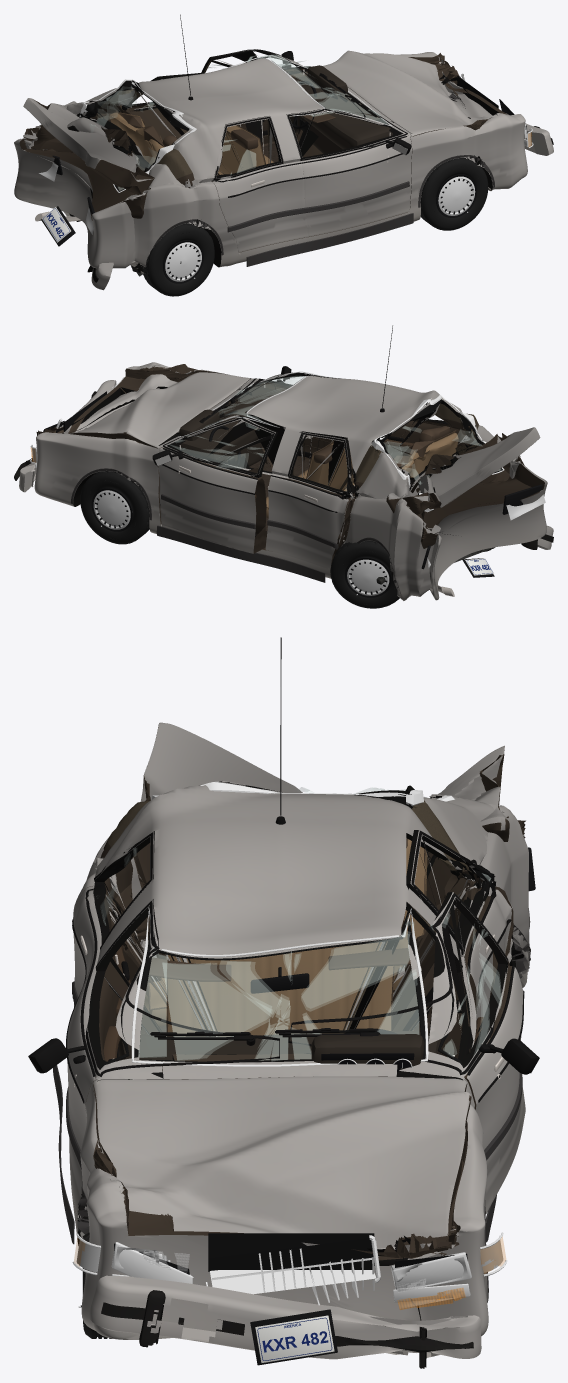
File: sedan87_rear_d2.glb
3 renders of one model, top to bottom at view 1: azimuth 30°, elevation 25°; view 2: azimuth 150°, elevation 25°; view 3: azimuth 270°, elevation 25°, orthographic. The views are drawn at different scales.
Parts seen in each view (by area): view 1: Body, Door_FR, Hood, Interior, Door_RR, Trunk, Glass, Wheel_RR_mesh, Wheel_FR_mesh, Trim, Trim_FR, Ends (+5 smaller); view 2: Body, Door_FL, Hood, Door_RL, Interior, Trunk, Wheel_FL_mesh, Glass, Wheel_RL_mesh, Trim, Ends, Trim_FL (+7 smaller); view 3: Body, Hood, Interior, Glass, Ends, Bumper_F, Door_FL, Trunk, Door_FR, Door_RL, Trim_FR, Trim_FL (+5 smaller).
Part boxes in pixels (left/top/right/bottom): Body: left=14, top=52, right=527, bottom=273; Door_FR: left=286, top=109, right=411, bottom=236; Hood: left=323, top=50, right=492, bottom=136; Interior: left=109, top=65, right=392, bottom=175; Door_RR: left=212, top=116, right=307, bottom=252; Trunk: left=23, top=98, right=154, bottom=194; Glass: left=79, top=55, right=391, bottom=192; Wheel_RR_mesh: left=141, top=223, right=214, bottom=296; Wheel_FR_mesh: left=420, top=158, right=488, bottom=230; Trim: left=145, top=14, right=494, bottom=266; Trim_FR: left=287, top=94, right=411, bottom=212; Ends: left=32, top=73, right=533, bottom=246; Body: left=34, top=362, right=547, bottom=600; Door_FL: left=158, top=418, right=277, bottom=553; Hood: left=68, top=372, right=250, bottom=448; Door_RL: left=265, top=432, right=356, bottom=569; Interior: left=179, top=386, right=458, bottom=518; Trunk: left=386, top=427, right=540, bottom=514; Wheel_FL_mesh: left=80, top=471, right=149, bottom=544; Glass: left=178, top=371, right=504, bottom=512; Wheel_RL_mesh: left=330, top=540, right=399, bottom=608; Trim: left=71, top=325, right=401, bottom=594; Ends: left=30, top=376, right=545, bottom=577; Trim_FL: left=152, top=410, right=274, bottom=536; Body: left=70, top=780, right=530, bottom=1357; Hood: left=93, top=1076, right=471, bottom=1265; Interior: left=118, top=838, right=441, bottom=1072; Glass: left=131, top=781, right=454, bottom=1066; Ends: left=72, top=847, right=535, bottom=1365; Bumper_F: left=89, top=1275, right=481, bottom=1368; Door_FL: left=398, top=892, right=525, bottom=1213; Trunk: left=140, top=722, right=509, bottom=841; Door_FR: left=67, top=899, right=162, bottom=1216; Door_RL: left=406, top=830, right=513, bottom=1058; Trim_FR: left=28, top=901, right=279, bottom=1169; Trim_FL: left=288, top=893, right=539, bottom=1160.
Size of the model in its own units: 4.34 by 2.16 by 2.1.
32 materials, 5 textured.
